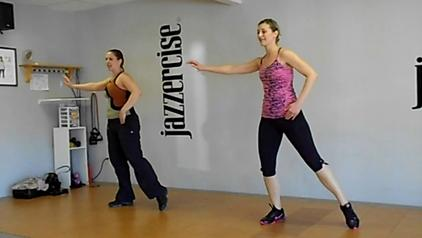down: (6, 174, 57, 196)
